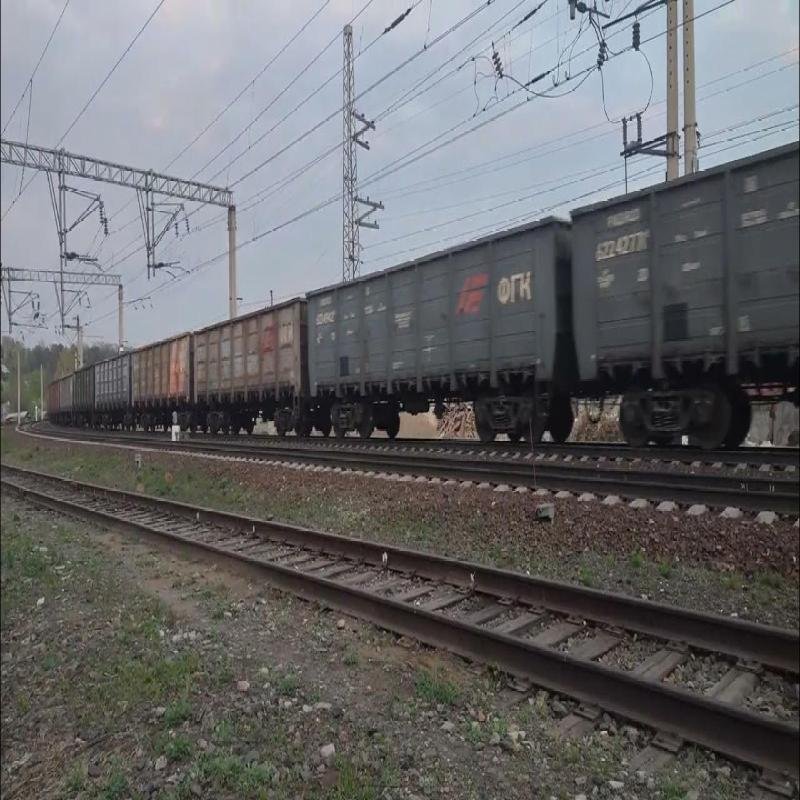train: (566, 125, 800, 504), (301, 208, 578, 474), (188, 301, 321, 451), (127, 332, 203, 440)
